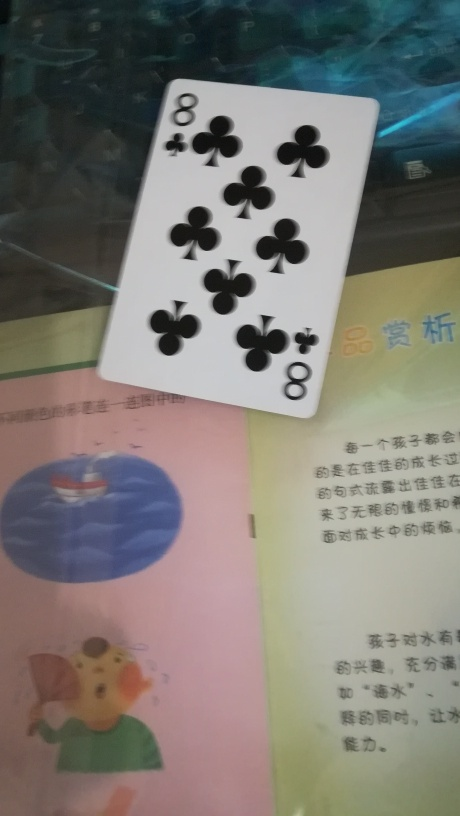mh 8: (89, 74, 381, 423)
